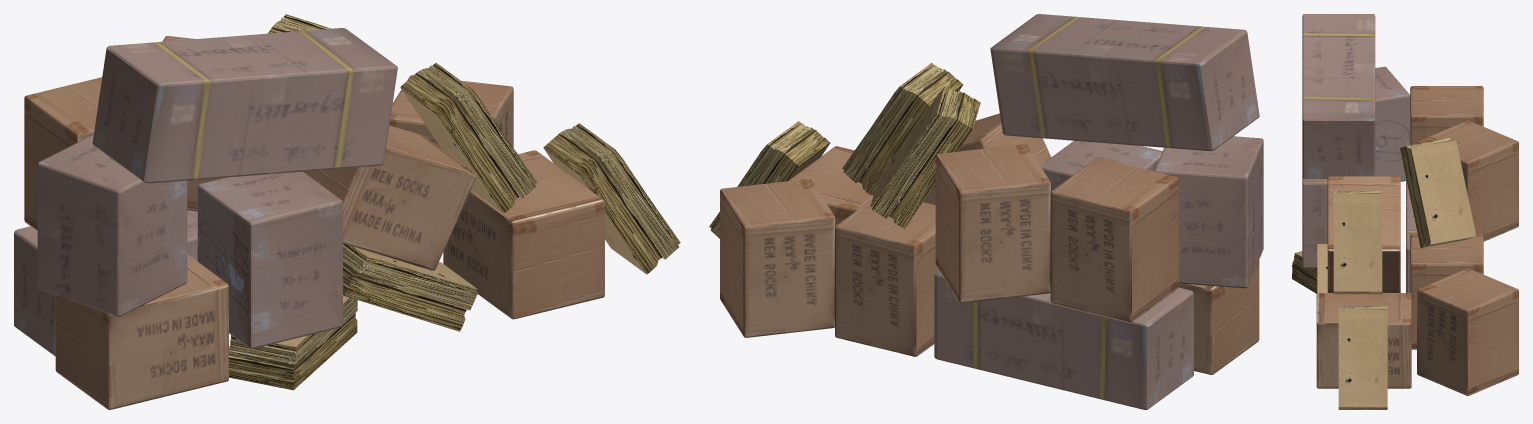
3 renders of one model, left to right at view 1: azimuth 30°, elevation 25°; view 2: azimuth 150°, elevation 25°; view 3: azimuth 270°, elevation 25°, orthographic. The views are drawn at different scales.
Visible parts, largest first — view 1: Boxes; view 2: Boxes; view 3: Boxes.
Boxes of the visible parts, box(x1,y1,x2,y2) form: Boxes: box(14, 14, 680, 409); Boxes: box(709, 14, 1263, 409); Boxes: box(1292, 14, 1518, 409).
Bounding box in the file's own units: 86.07 × 45.2 × 41.04.
